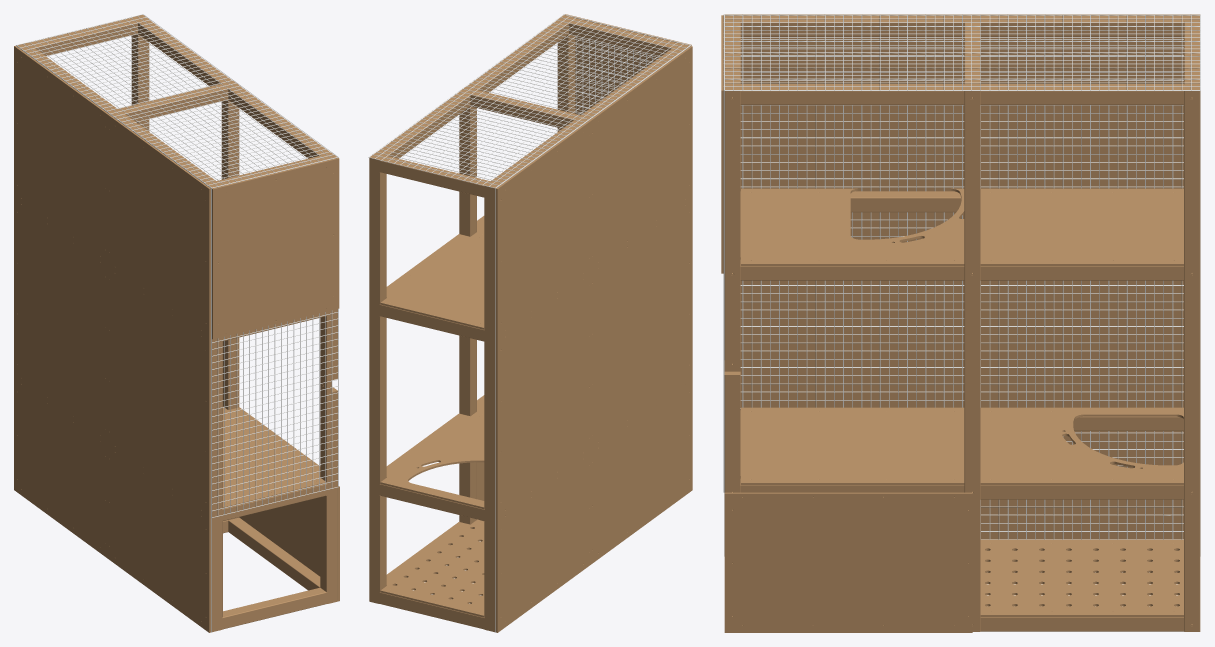
The model's file is dapal-mod-880-2350-2950-v1-cd9691b48e37.glb.
3 views of the same model, side by side, from view 1: azimuth 30°, elevation 25°; view 2: azimuth 150°, elevation 25°; view 3: azimuth 270°, elevation 25° (orthographic). The views are drawn at different scales.
Size of the model in its own units: 0.908 by 2.95 by 2.37.
